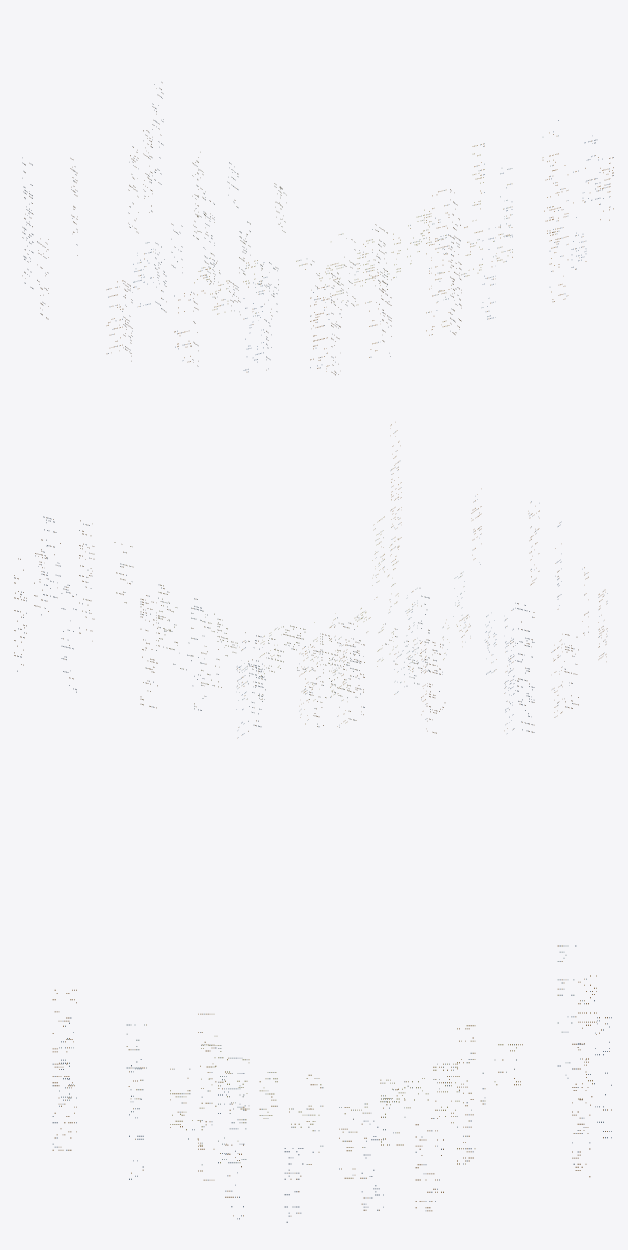
The model's file is overpass_city_lights.glb.
The picture shows the model from 3 angles, top to bottom: view 1: azimuth 30°, elevation 25°; view 2: azimuth 150°, elevation 25°; view 3: azimuth 270°, elevation 25°; orthographic projection. The views are drawn at different scales.
Visible parts, largest first — view 1: city_lights; view 2: city_lights; view 3: city_lights.
Boxes of the visible parts, bbox=[...] form: city_lights: bbox=[22, 82, 613, 375]; city_lights: bbox=[14, 422, 607, 738]; city_lights: bbox=[52, 945, 611, 1222].
Bounding box in the file's own units: 748 × 183 × 584.
